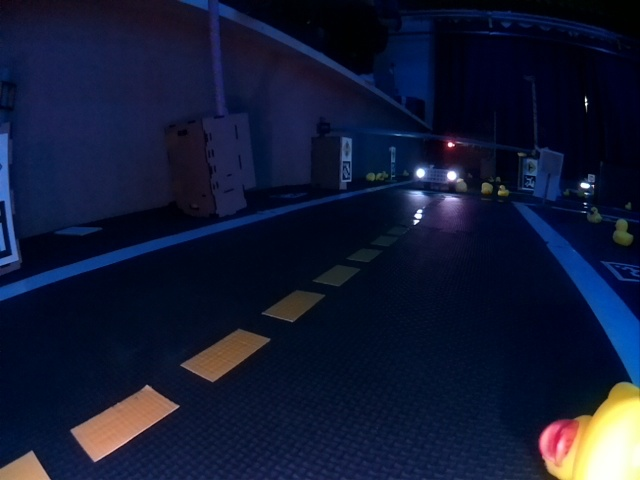Duckie: (539, 382, 638, 477), (614, 220, 630, 246), (590, 210, 600, 222), (498, 187, 508, 196), (482, 185, 492, 194)
Duckiebot: (415, 163, 457, 191)
Intersection sign: (524, 159, 535, 173)
QR code: (604, 261, 638, 281), (341, 161, 351, 181), (524, 176, 536, 190)
